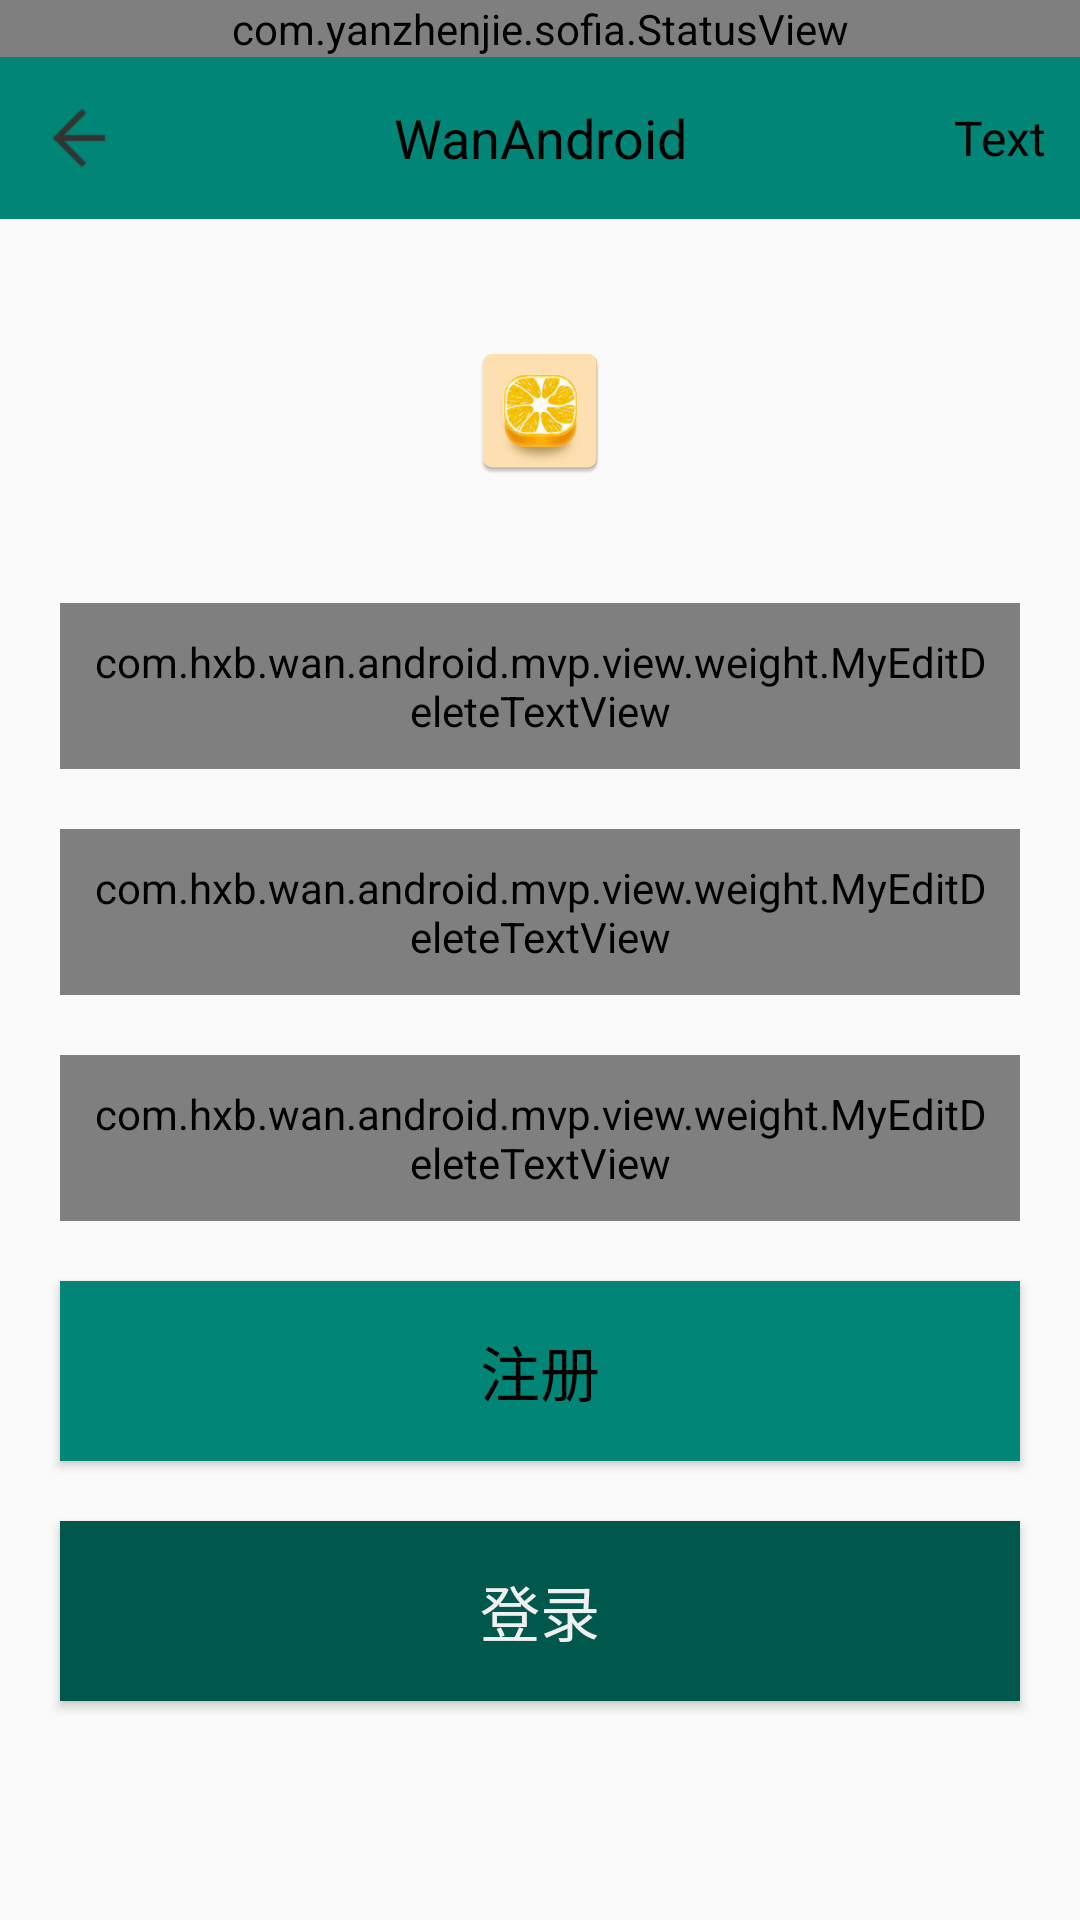

Icon click points for this 1080 x 1920 phone screenshot, format (x,y):
bar back: (79,138)
